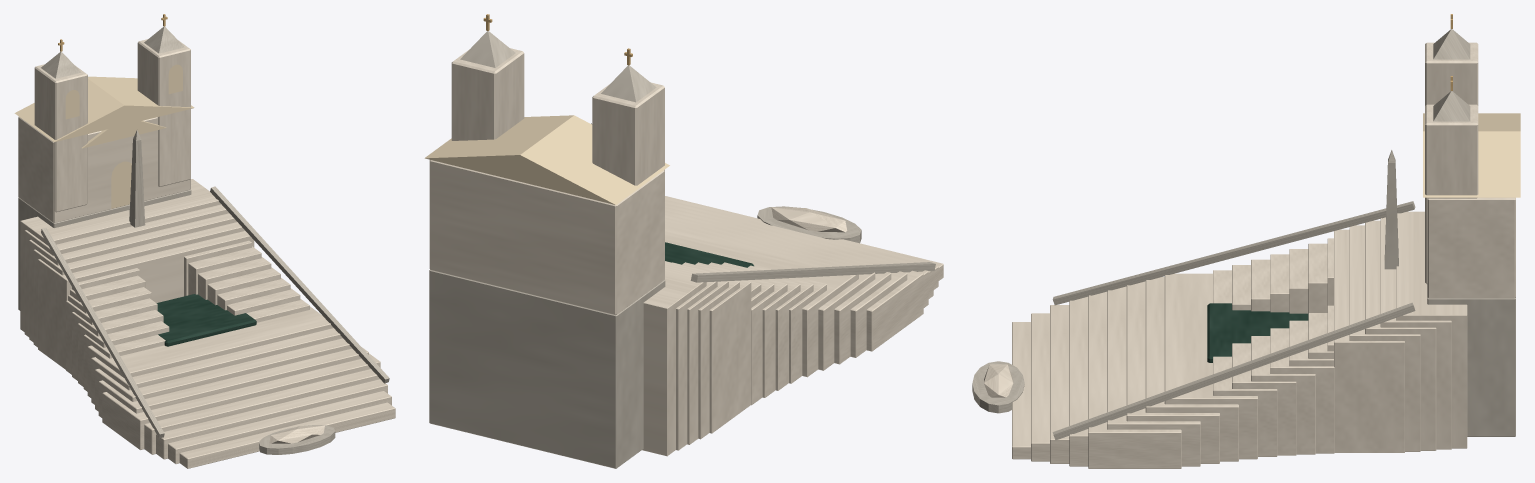
The model's file is spanish-steps.glb.
The picture shows the model from 3 angles, left to right: view 1: azimuth 30°, elevation 25°; view 2: azimuth 150°, elevation 25°; view 3: azimuth 270°, elevation 25°; orthographic projection. The views are drawn at different scales.
Visible parts, largest first — view 1: spanish-steps; view 2: spanish-steps; view 3: spanish-steps.
Boxes of the visible parts, x1,y1,x2,y2 form: spanish-steps: [14, 14, 395, 468]; spanish-steps: [424, 14, 943, 468]; spanish-steps: [972, 14, 1520, 468].
Size of the model in its own units: 7.7 by 8.73 by 12.34.
1 material, 1 textured.
